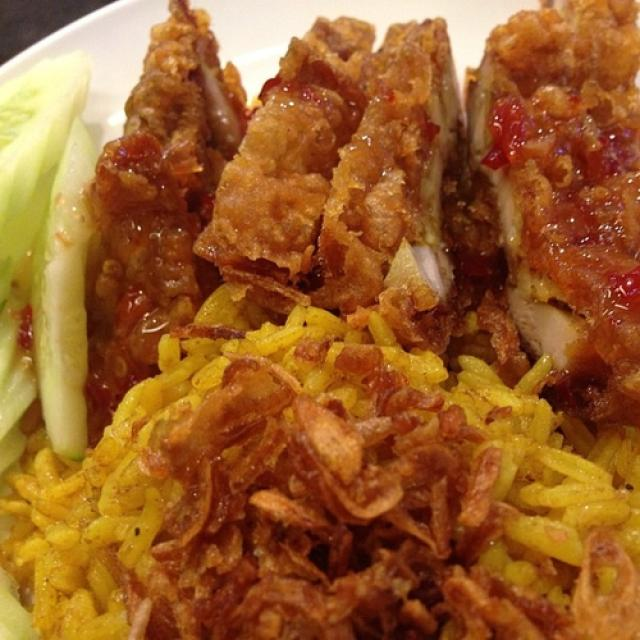米饭主食: (7, 10, 634, 634)
